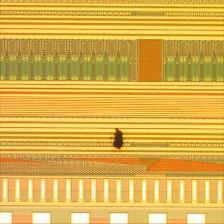PARTICLE: (109, 125, 128, 153)
